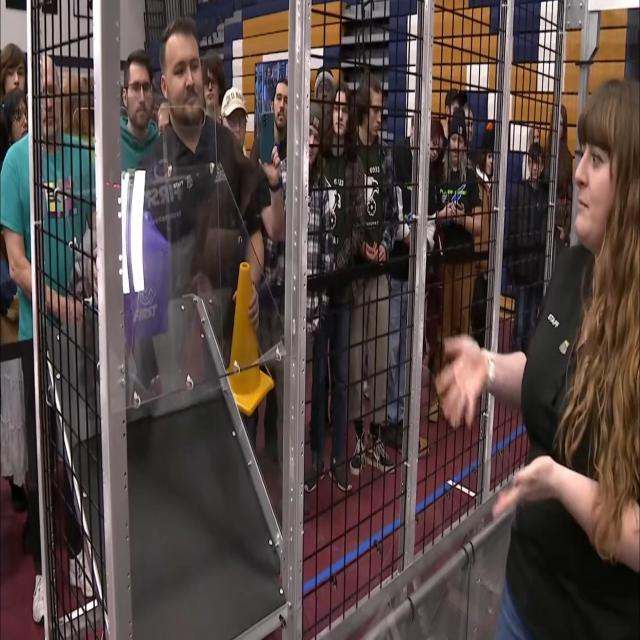frc_cone: (212, 263, 272, 414)
frc_cube: (102, 212, 176, 366)
